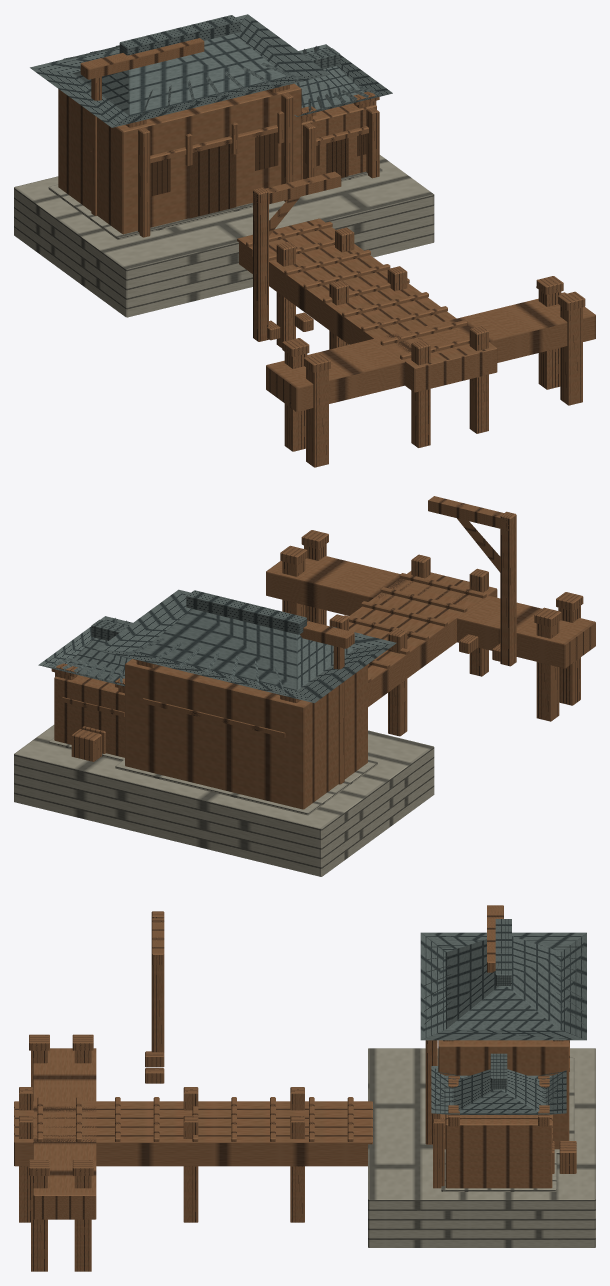
The model's file is port-lod0.glb.
3 renders of one model, top to bottom at view 1: azimuth 30°, elevation 25°; view 2: azimuth 150°, elevation 25°; view 3: azimuth 270°, elevation 25°, orthographic.
Size of the model in its own units: 0.74 by 0.551 by 1.2.
Materials: 1 (1 with a texture image).
